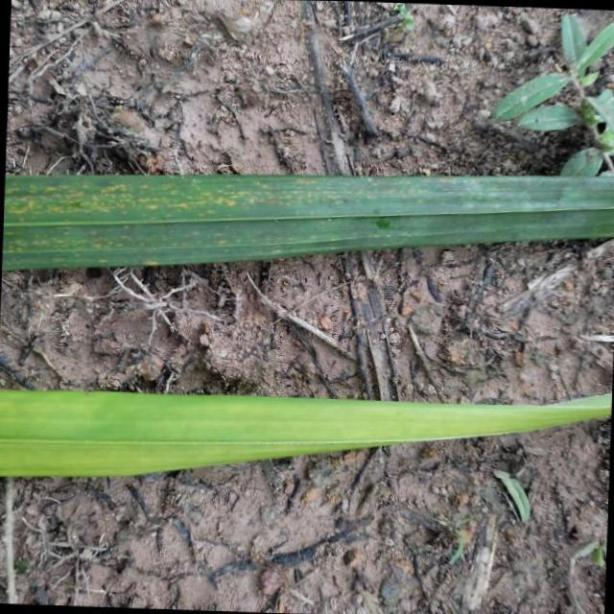nitrogen: (0, 168, 614, 273), (0, 389, 614, 481)
